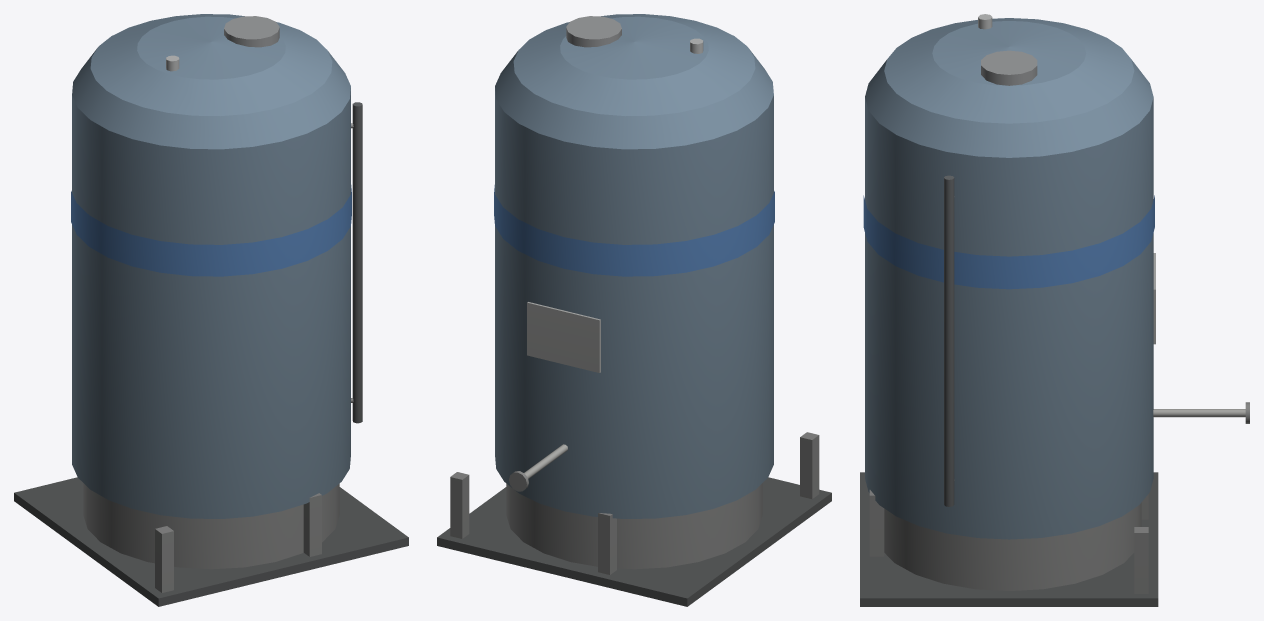
The model's file is flTankWater_steel.glb.
3 views of the same model, side by side, from view 1: azimuth 30°, elevation 25°; view 2: azimuth 150°, elevation 25°; view 3: azimuth 270°, elevation 25° (orthographic). The views are drawn at different scales.
Visible parts, largest first — view 1: flTankWater_steel; view 2: flTankWater_steel; view 3: flTankWater_steel.
Boxes of the visible parts, box(x1,y1,x2,y2) form: flTankWater_steel: box(14, 14, 408, 606); flTankWater_steel: box(437, 14, 831, 606); flTankWater_steel: box(860, 14, 1249, 606).
Bounding box in the file's own units: 1.24 × 2.3 × 1.62.
